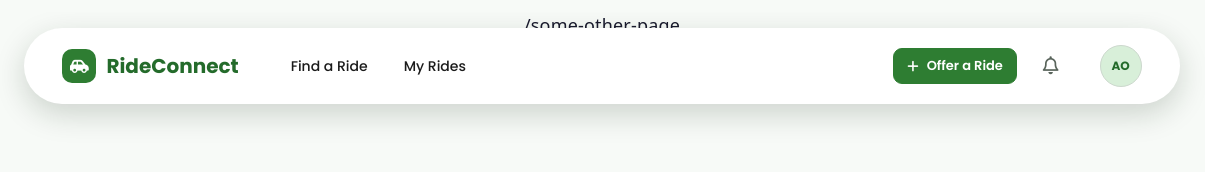
Test: AppHeader › navigates to Find a Ride
Click the button "Find a Ride" at (329, 66), box [275,45,384,87]
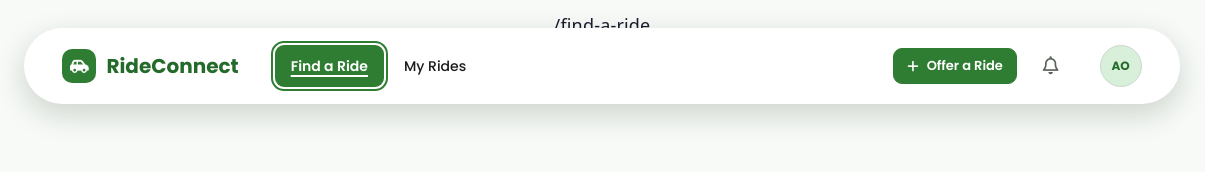
Now the text with test id "path" reads "/find-a-ride", box [554,13,650,37]
